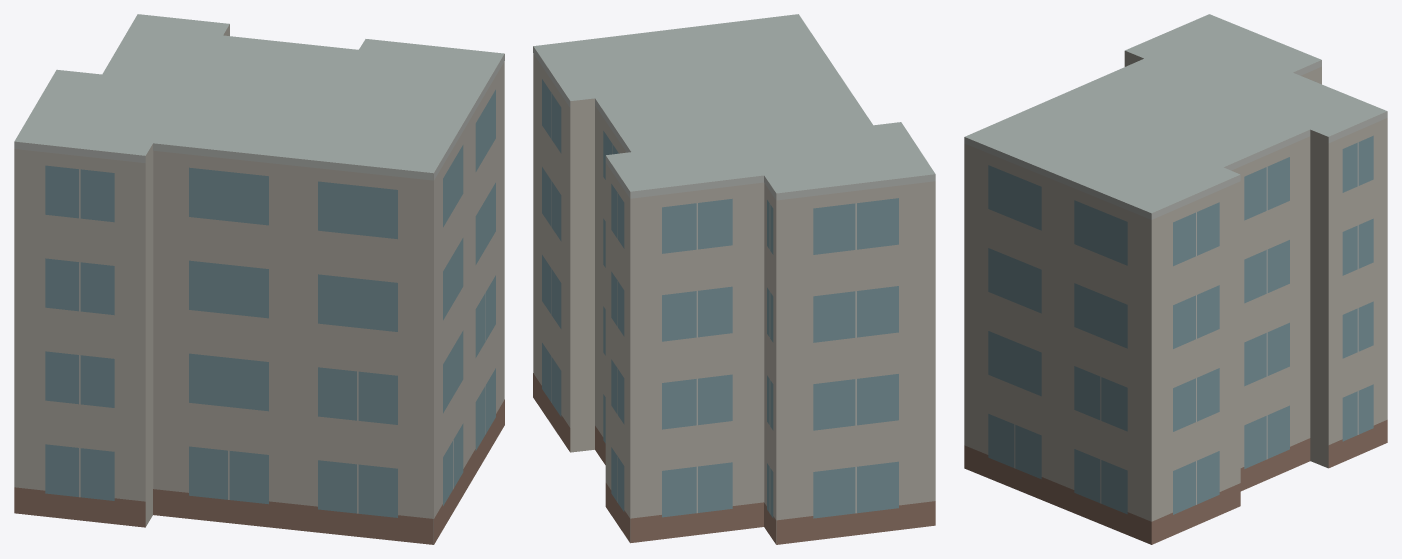
The model's file is survey-upis-32939785.glb.
The picture shows the model from 3 angles, left to right: view 1: azimuth 30°, elevation 25°; view 2: azimuth 150°, elevation 25°; view 3: azimuth 270°, elevation 25°; orthographic projection. The views are drawn at different scales.
Parts seen in each view (by area): view 1: survey-upis-32939785.tmp; view 2: survey-upis-32939785.tmp; view 3: survey-upis-32939785.tmp.
Boxes of the visible parts, x1,y1,x2,y2 form: survey-upis-32939785.tmp: (14,14,504,544); survey-upis-32939785.tmp: (533,14,935,544); survey-upis-32939785.tmp: (964,14,1387,544).
Bounding box in the file's own units: 15.74 × 12.2 × 14.12.
